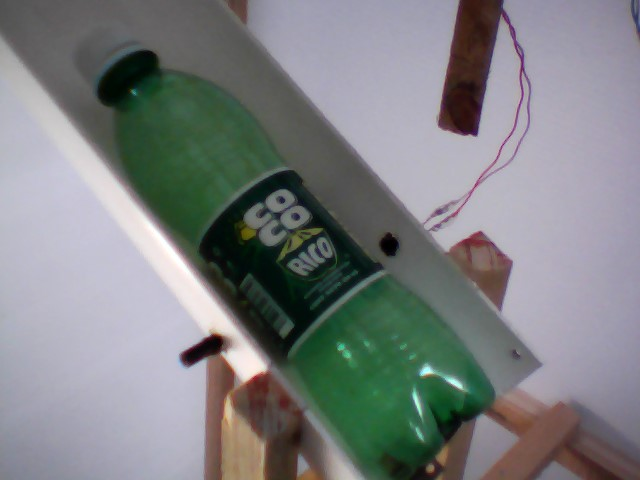plastico: (75, 17, 502, 475)
